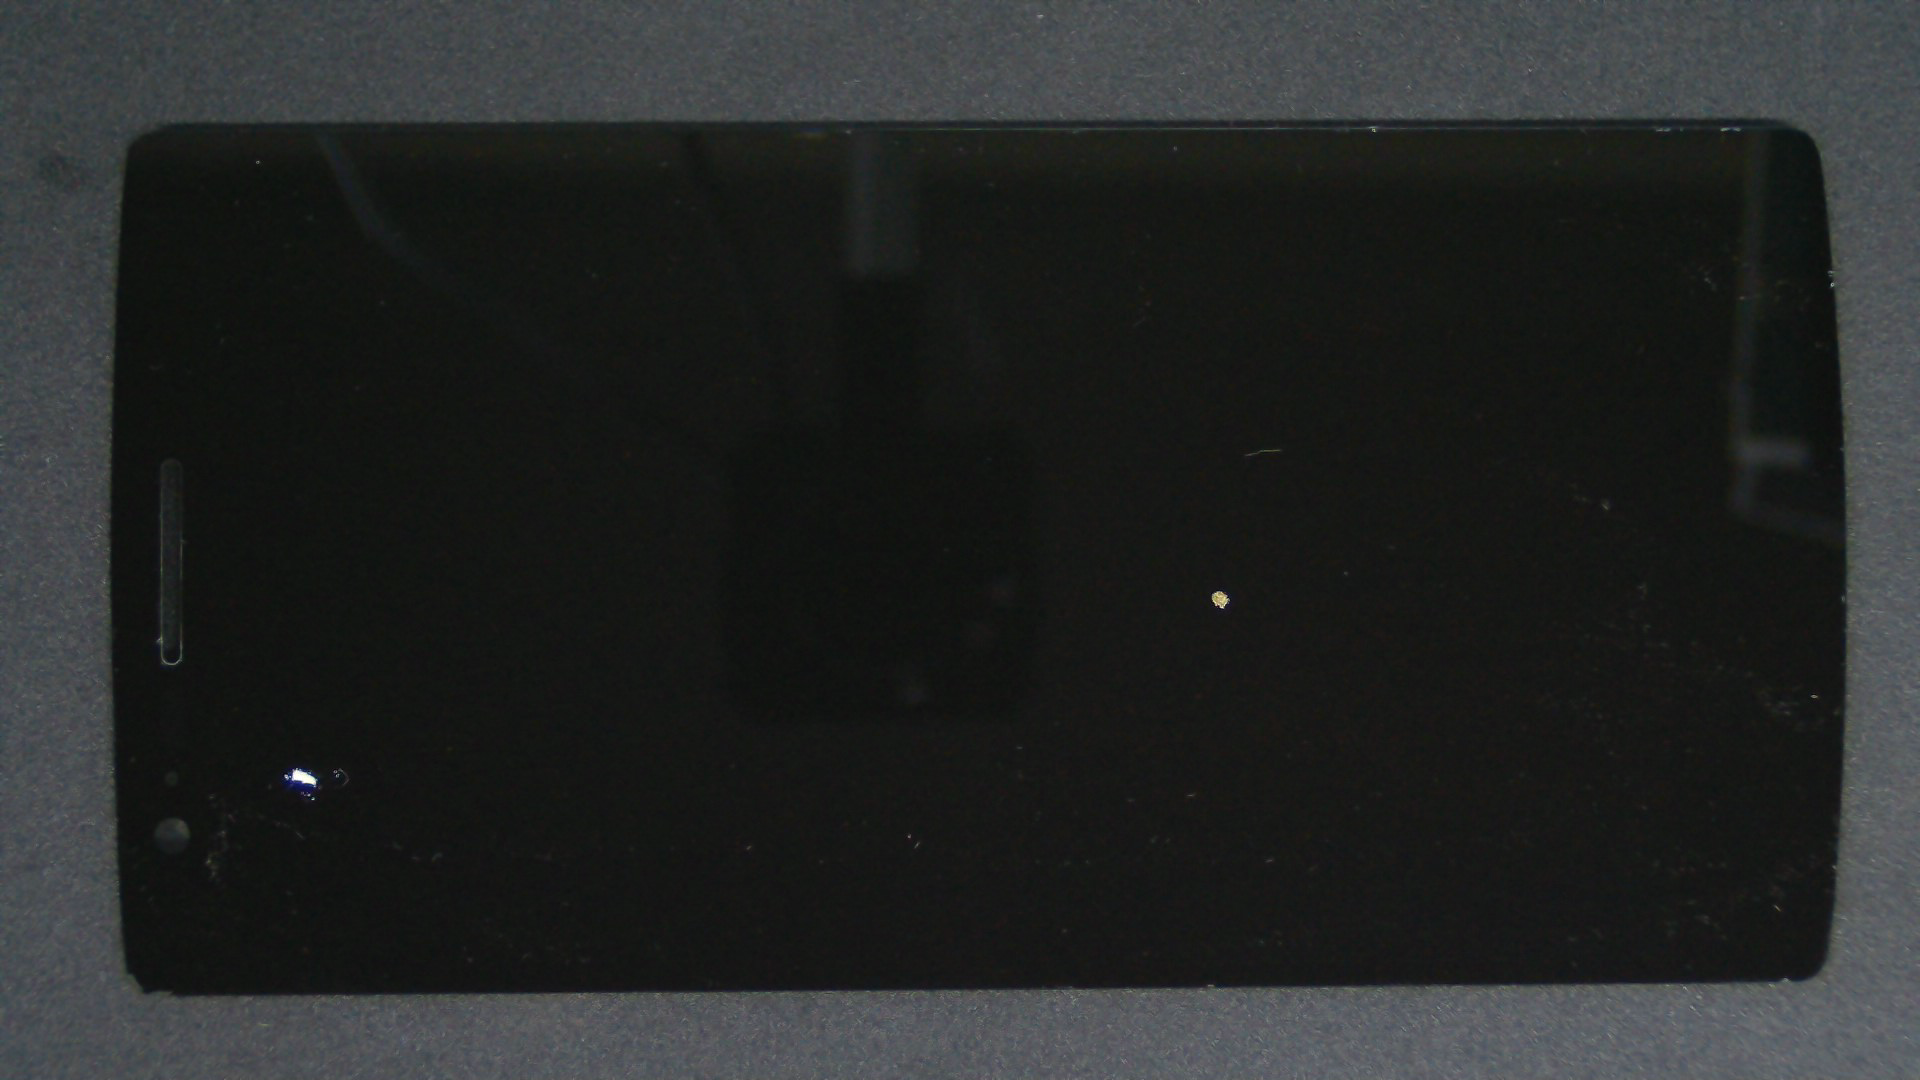defect: (282, 767, 319, 790), (1209, 588, 1233, 612)
